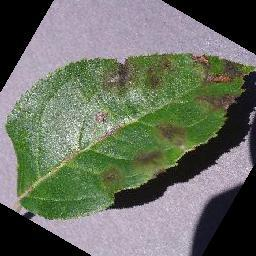apple healthy: (4, 50, 255, 220)
